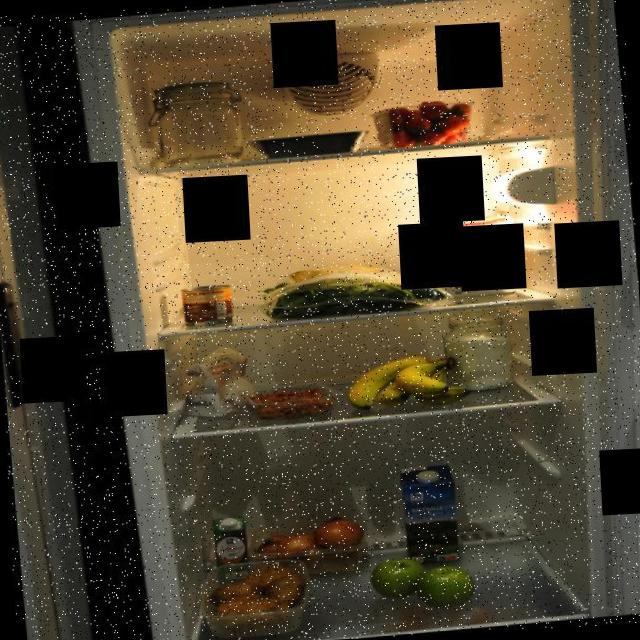Cebolla: (245, 513, 371, 580)
Gambas/Langostinos: (252, 384, 338, 419)
Leche: (396, 458, 467, 566)
Manzana: (367, 550, 480, 614)
Patata: (204, 552, 314, 636)
Plátano: (343, 349, 474, 415)
